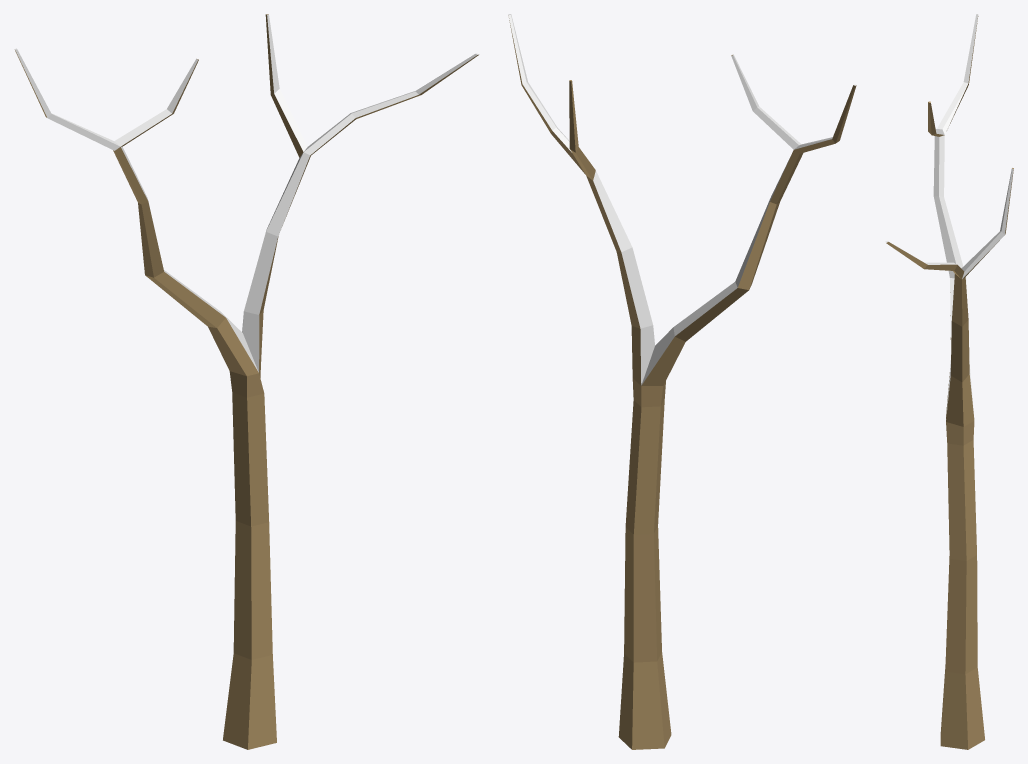
File: Acacia_Tree_NoLeaves_s_Snow_01.fbx
3 views of the same model, side by side, from view 1: azimuth 30°, elevation 25°; view 2: azimuth 150°, elevation 25°; view 3: azimuth 270°, elevation 25° (orthographic). The views are drawn at different scales.
Parts seen in each view (by area): view 1: Acacia_Tree_NoLeaves_s_Snow_01; view 2: Acacia_Tree_NoLeaves_s_Snow_01; view 3: Acacia_Tree_NoLeaves_s_Snow_01.
Part boxes in pixels (bbox=[...]): Acacia_Tree_NoLeaves_s_Snow_01: bbox=[14, 14, 479, 749]; Acacia_Tree_NoLeaves_s_Snow_01: bbox=[508, 14, 856, 749]; Acacia_Tree_NoLeaves_s_Snow_01: bbox=[885, 14, 1013, 749].
Bounding box in the file's own units: 361 × 618 × 114.
